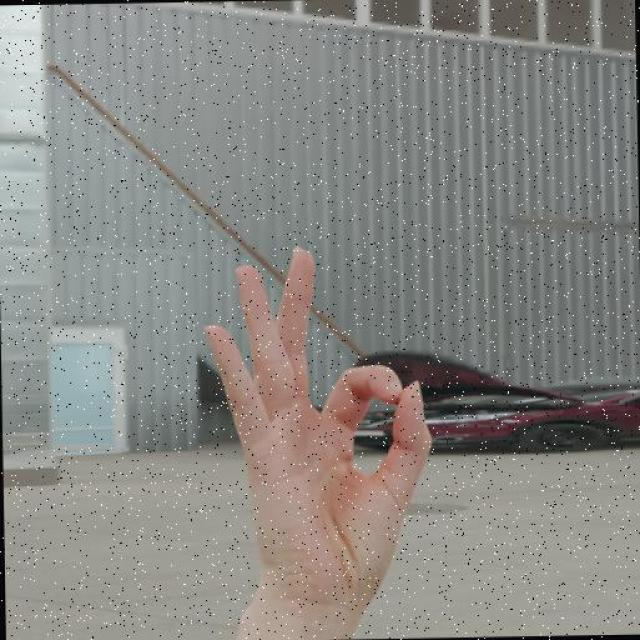F: (198, 240, 440, 610)
